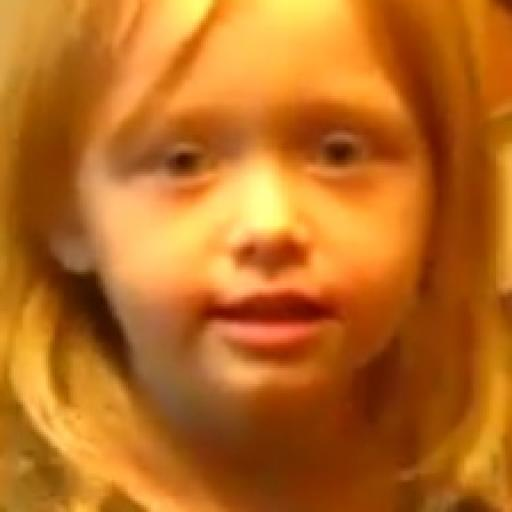Autism: (44, 49, 495, 449)
